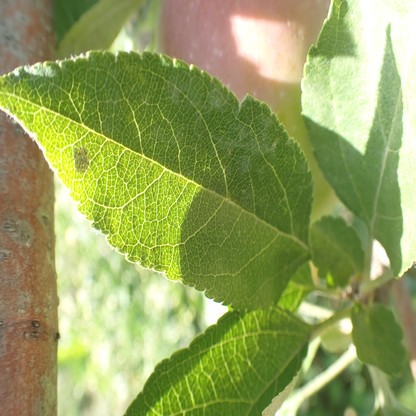powdery_mildew: (215, 123, 278, 171), (205, 90, 220, 111), (167, 84, 179, 107)
